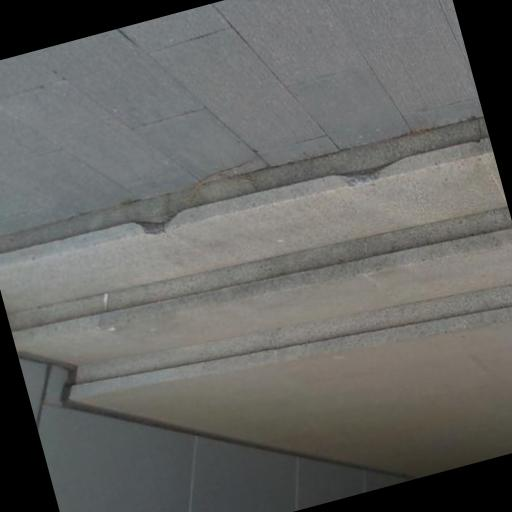stairs: (0, 118, 511, 399)
